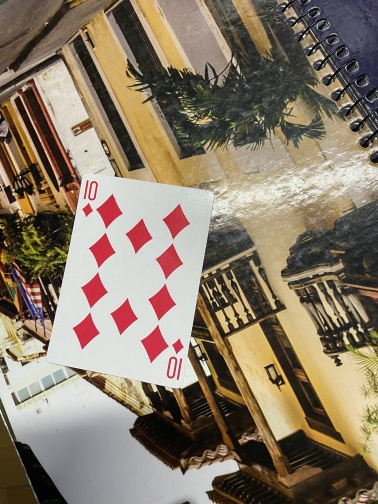ten: (45, 171, 217, 391)
